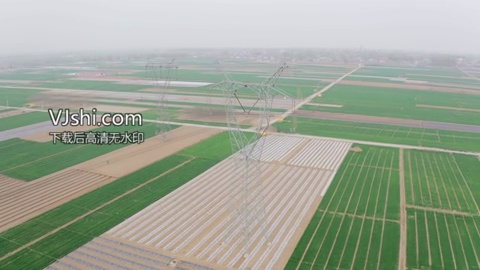tower_body: (201, 56, 304, 255), (141, 56, 187, 140)
tower_head: (203, 58, 299, 161), (142, 58, 181, 99)
